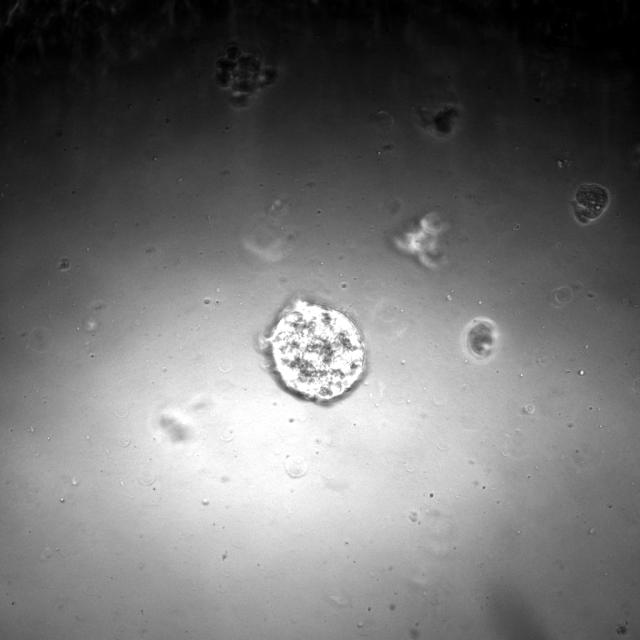organoid: (263, 301, 365, 401), (216, 44, 277, 105), (390, 212, 449, 268), (571, 183, 611, 225), (461, 317, 499, 361), (412, 104, 459, 135)
